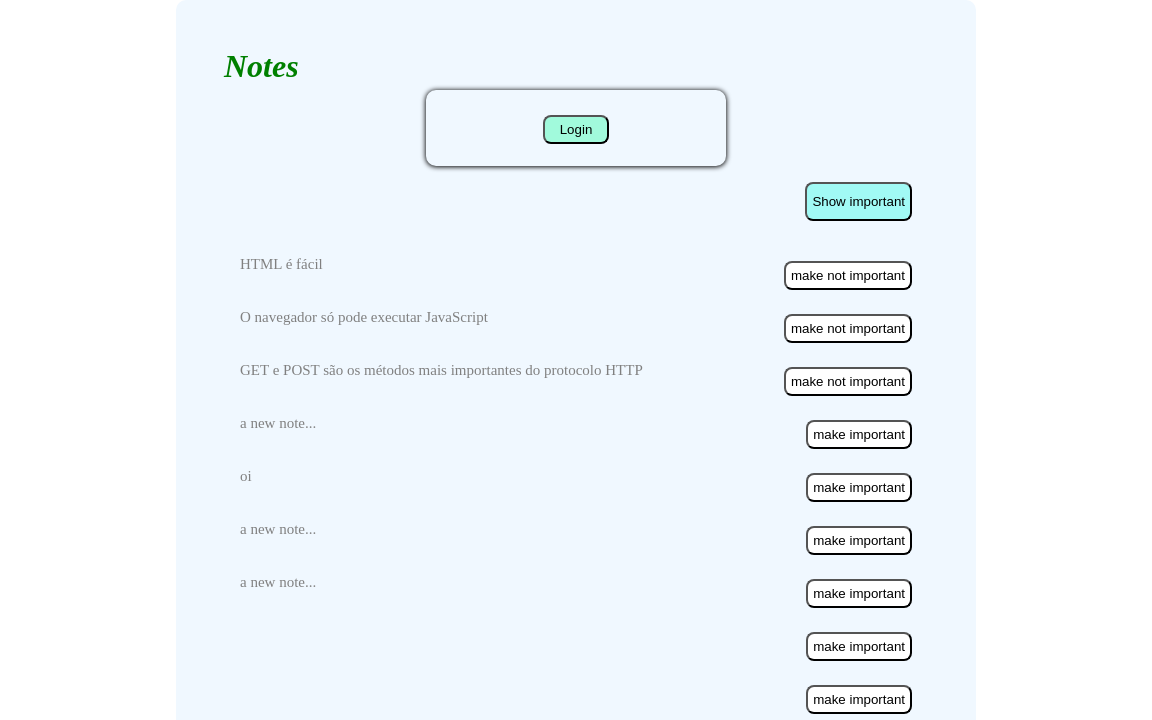
it: Note app › login fails with wrong password
This screenshot has width=1152, height=720.
Click the button "Login" at (577, 130), box x1=543 y1=115 x2=610 y2=144
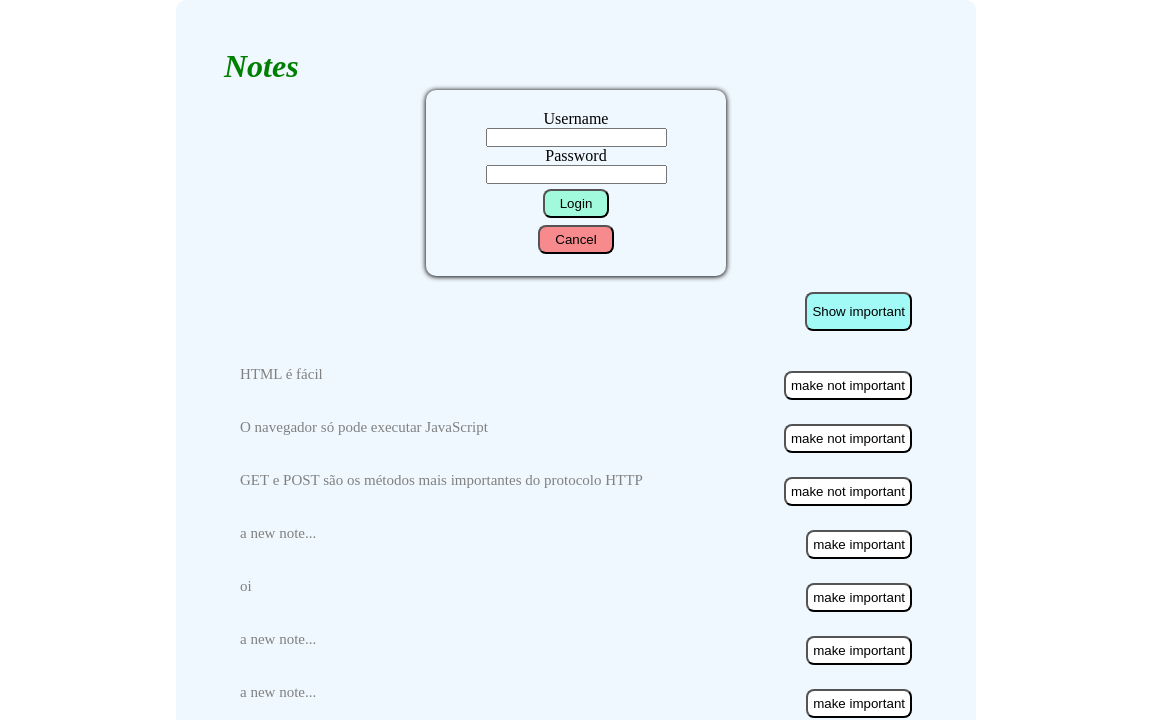
Type "root" into the field with id "username" at (577, 138), box x1=486 y1=128 x2=667 y2=147
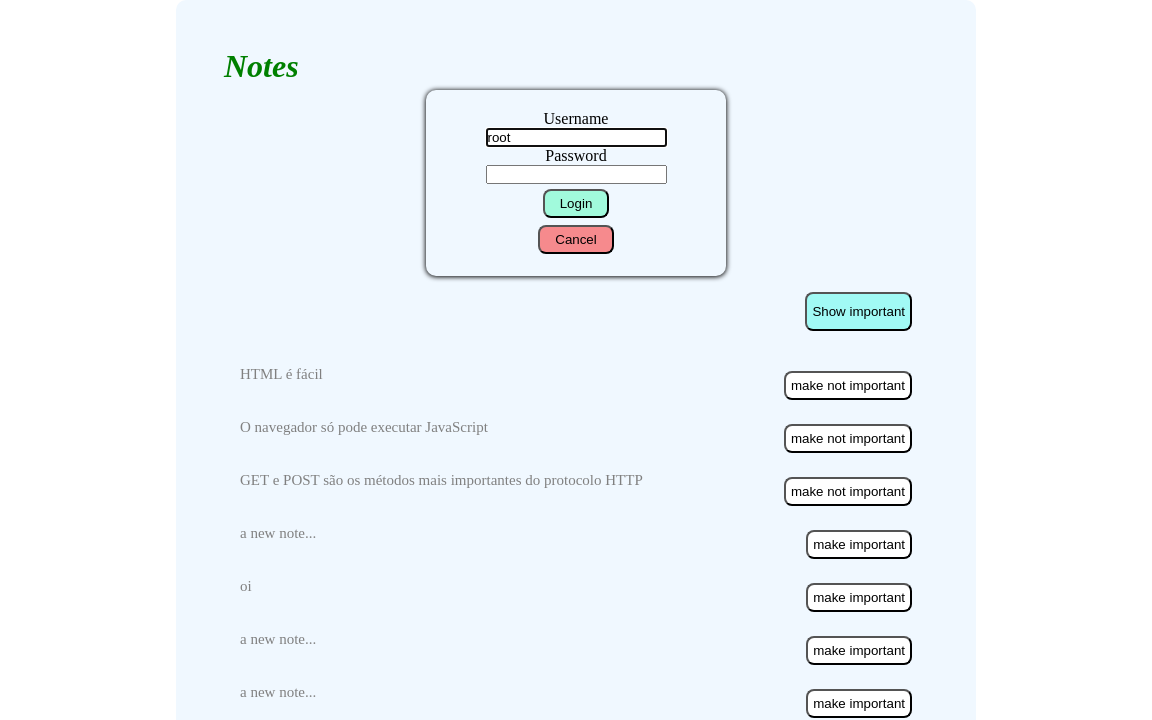
Type "fail" into the password field at (577, 175), box x1=486 y1=165 x2=667 y2=184
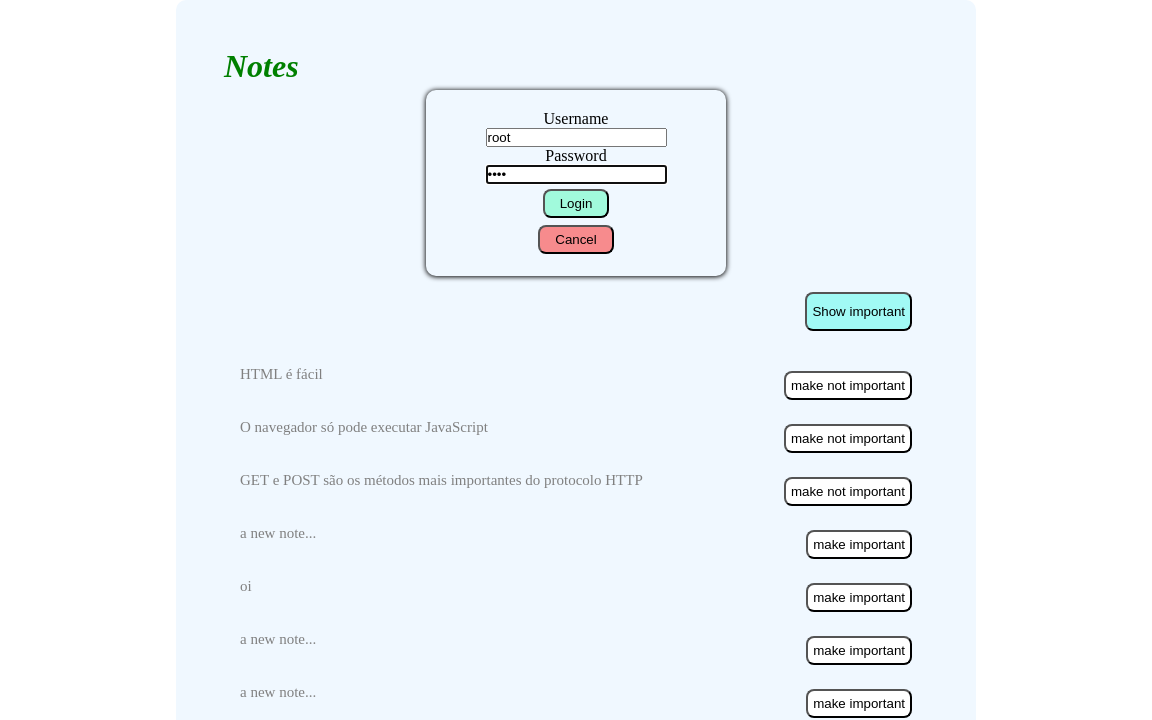
Click the button with id "login-button" at (577, 204), box x1=543 y1=189 x2=610 y2=218
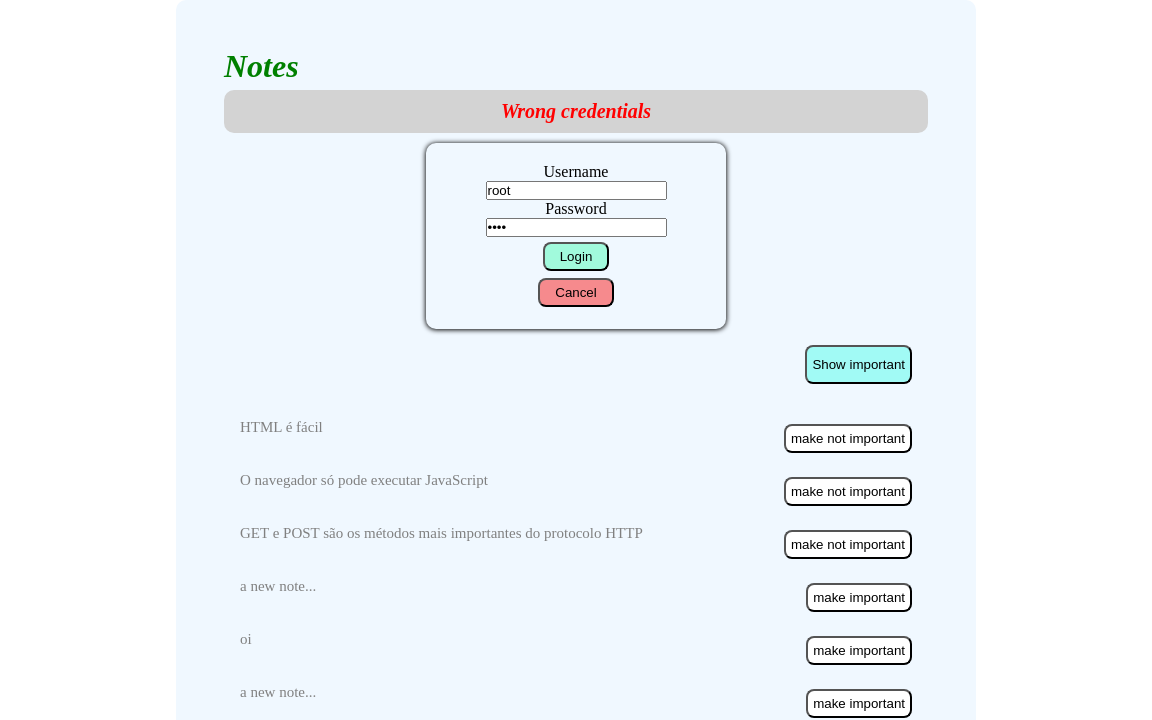
Expected: the text with class "error" reads "Wrong credentials", x1=501 y1=100 x2=651 y2=122
